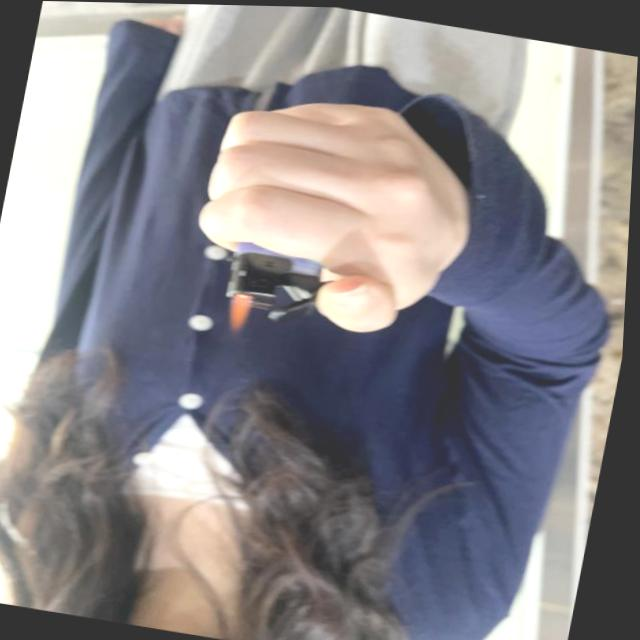Fire: (226, 293, 256, 336)
